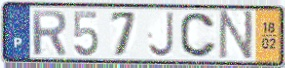5: (72, 9, 101, 58)
7: (109, 10, 139, 58)
C: (178, 12, 219, 59)
J: (147, 10, 176, 59)
N: (217, 9, 255, 63)
R: (29, 9, 69, 57)
